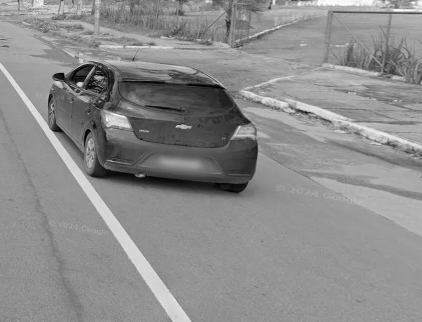car: (45, 46, 261, 197)
